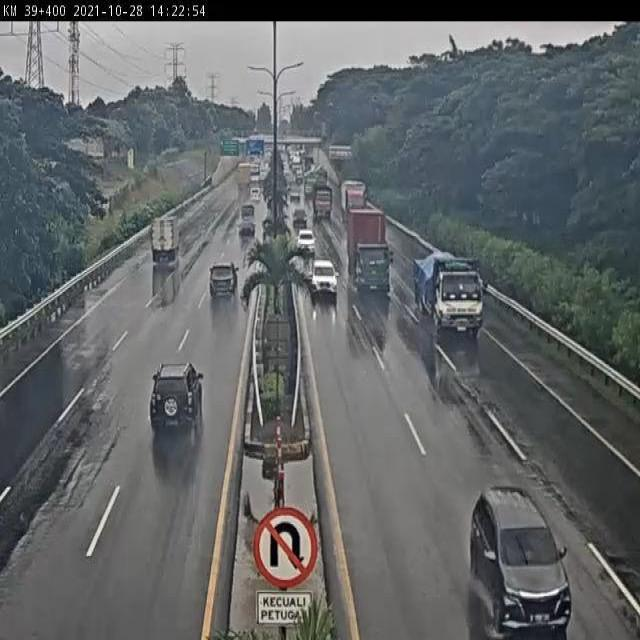truck-l-: (414, 251, 488, 337)
truck-m-: (150, 216, 183, 263)
truck-xl-: (348, 208, 396, 295)
